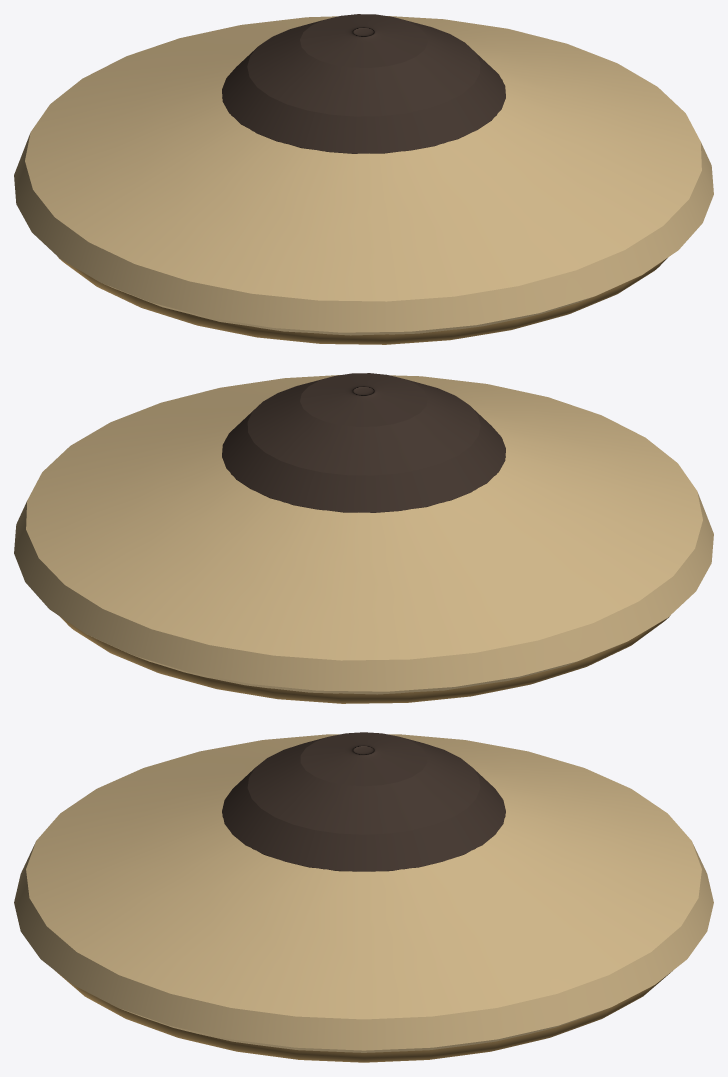
The model's file is SP-ALG-entry.glb.
3 renders of one model, top to bottom at view 1: azimuth 30°, elevation 25°; view 2: azimuth 150°, elevation 25°; view 3: azimuth 270°, elevation 25°, orthographic.
Parts seen in each view (by area): view 1: flexible_TPS, nose, inflatable_torus_4; view 2: flexible_TPS, nose, inflatable_torus_4; view 3: flexible_TPS, nose, inflatable_torus_4.
Boxes of the visible parts, bbox=[...] form: flexible_TPS: bbox=[14, 16, 713, 335]; nose: bbox=[222, 14, 505, 153]; inflatable_torus_4: bbox=[57, 256, 667, 344]; flexible_TPS: bbox=[14, 375, 713, 694]; nose: bbox=[222, 373, 505, 512]; inflatable_torus_4: bbox=[60, 615, 670, 703]; flexible_TPS: bbox=[14, 734, 713, 1052]; nose: bbox=[222, 732, 505, 871]; inflatable_torus_4: bbox=[55, 971, 672, 1062].
Size of the model in its own units: 1.21 by 0.4503 by 1.21.
